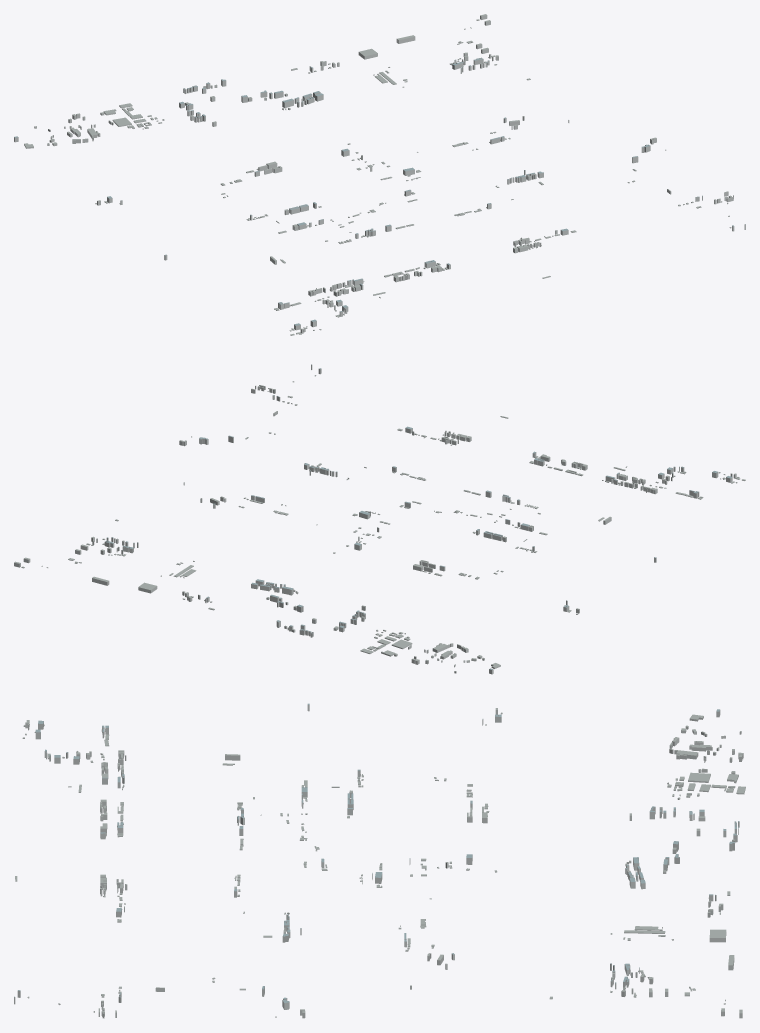
File: far.glb
3 renders of one model, top to bottom at view 1: azimuth 30°, elevation 25°; view 2: azimuth 150°, elevation 25°; view 3: azimuth 270°, elevation 25°, orthographic. The views are drawn at different scales.
Bounding box in the file's own units: 2102 × 23.8 × 2107.
